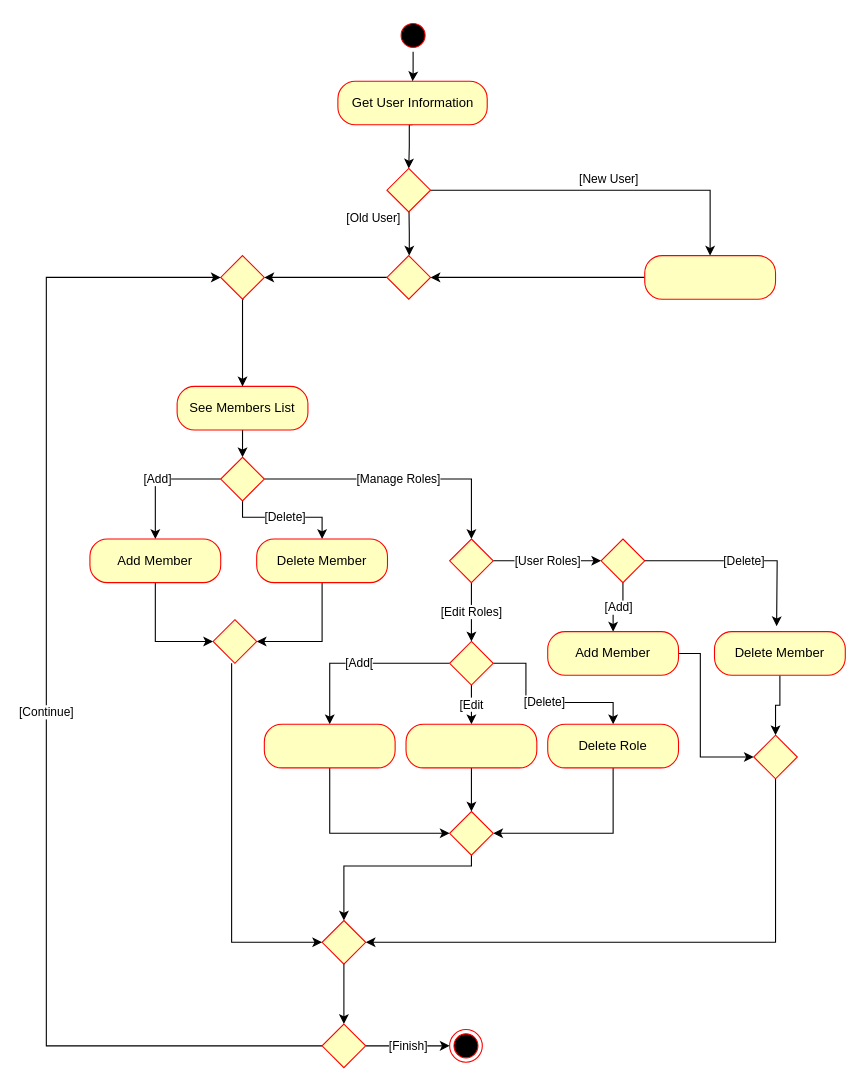
The diagram is 864 pixels wide and 1087 high, and some of its shapes have lost their labels. Each missing label, with the centre of its shape:
Add Role: the point at 329,745
Create New User: the point at 710,277
Edit Role: the point at 471,745
